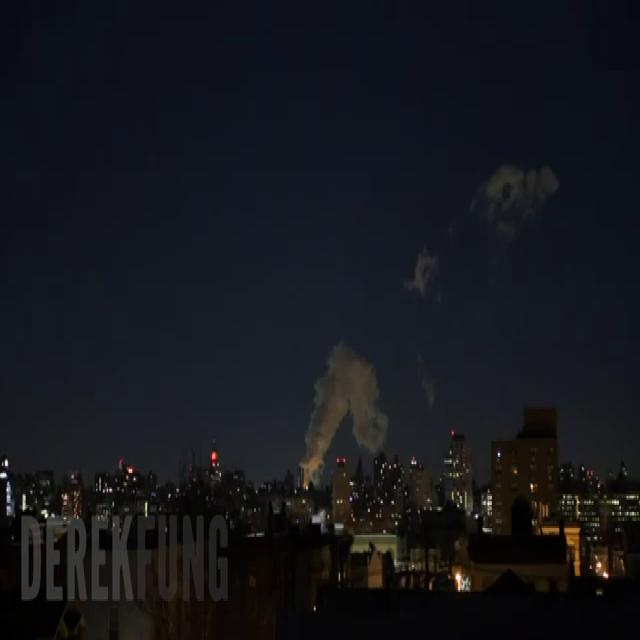smoke: (299, 341, 388, 482)
